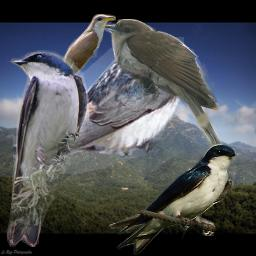Cuckoo: (100, 19, 230, 166), (44, 14, 116, 114)
Swallow: (13, 37, 184, 174), (4, 50, 89, 247), (109, 144, 237, 255)
